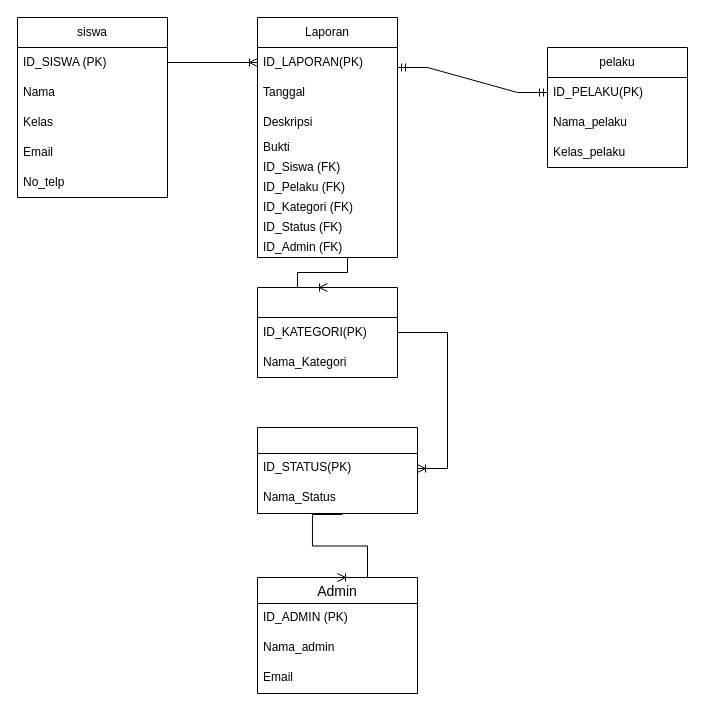
The diagram is 705 pixels wide and 714 high, and some of its shapes have lost their labels. The box of each missing label's shape, as (x1, y1, x2, y2) in pixels:
Kategori Laporan: (256, 286, 398, 378)
Status Laporan: (256, 426, 418, 514)
